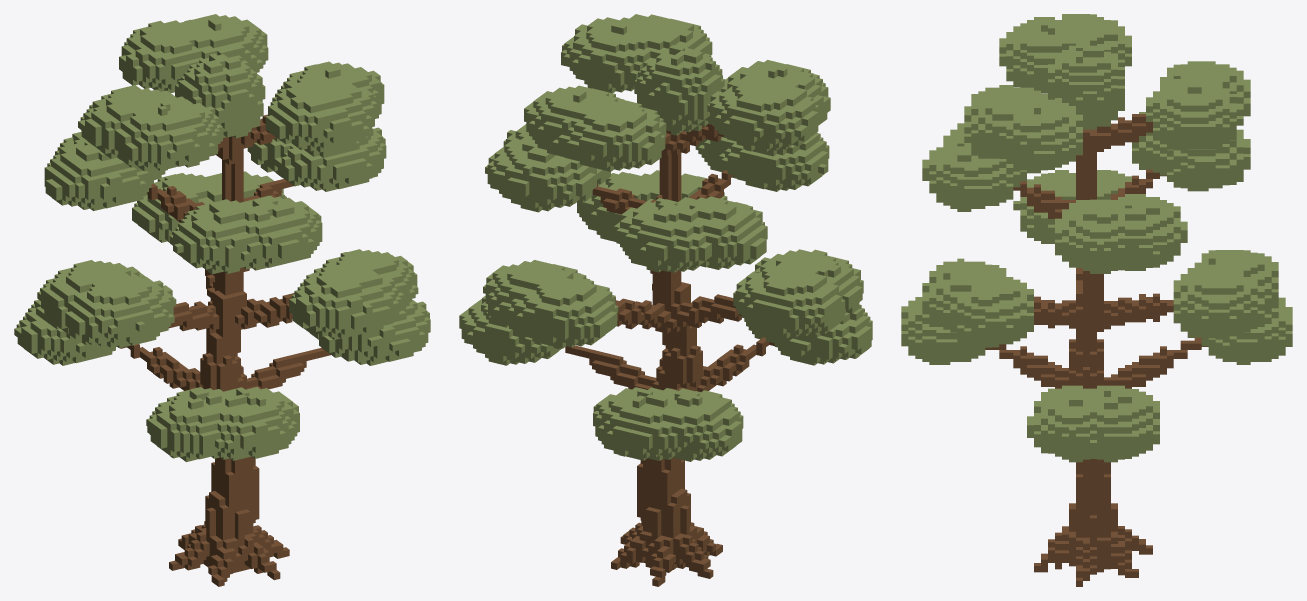
The model's file is visual-far.glb.
3 renders of one model, left to right at view 1: azimuth 30°, elevation 25°; view 2: azimuth 150°, elevation 25°; view 3: azimuth 270°, elevation 25°, orthographic.
Parts seen in each view (by area): view 1: 既有乔木色阶与高度族; view 2: 既有乔木色阶与高度族; view 3: 既有乔木色阶与高度族.
Boxes of the visible parts, left/top/right/bottom form: 既有乔木色阶与高度族: left=14, top=14, right=430, bottom=586; 既有乔木色阶与高度族: left=459, top=14, right=872, bottom=586; 既有乔木色阶与高度族: left=901, top=14, right=1292, bottom=586.
Size of the model in its own units: 11.8 by 16 by 11.2.
3 materials, 3 textured.
